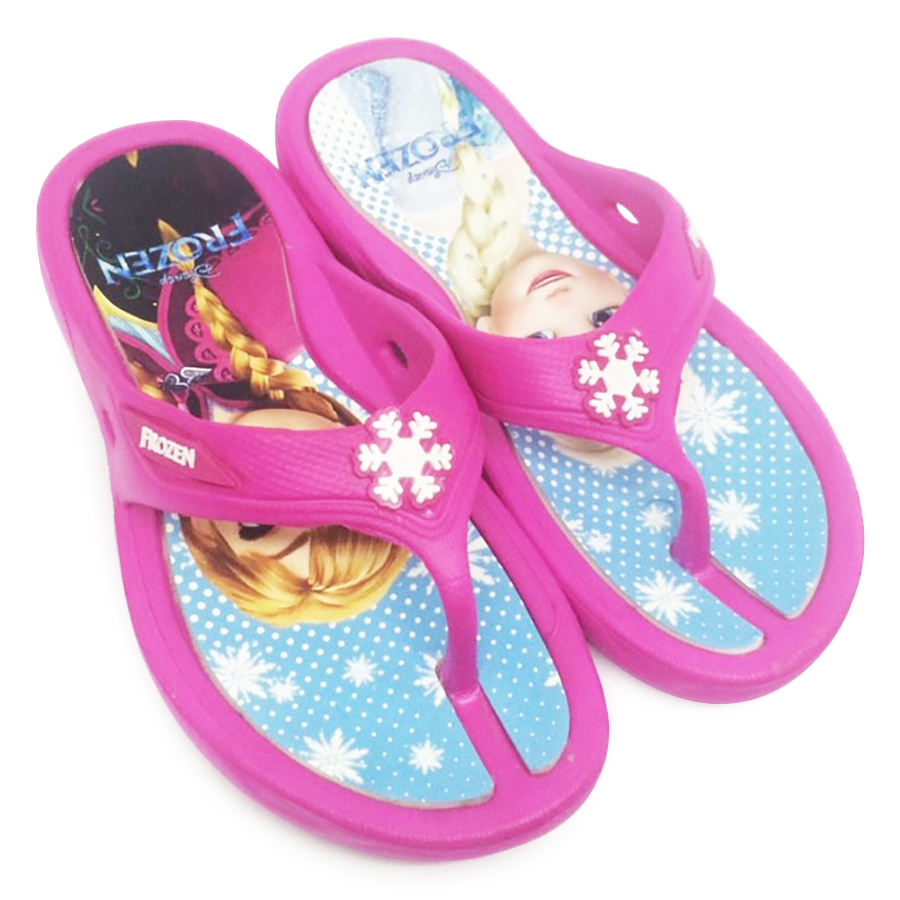Disney: (392, 156, 471, 189), (145, 260, 238, 288)
